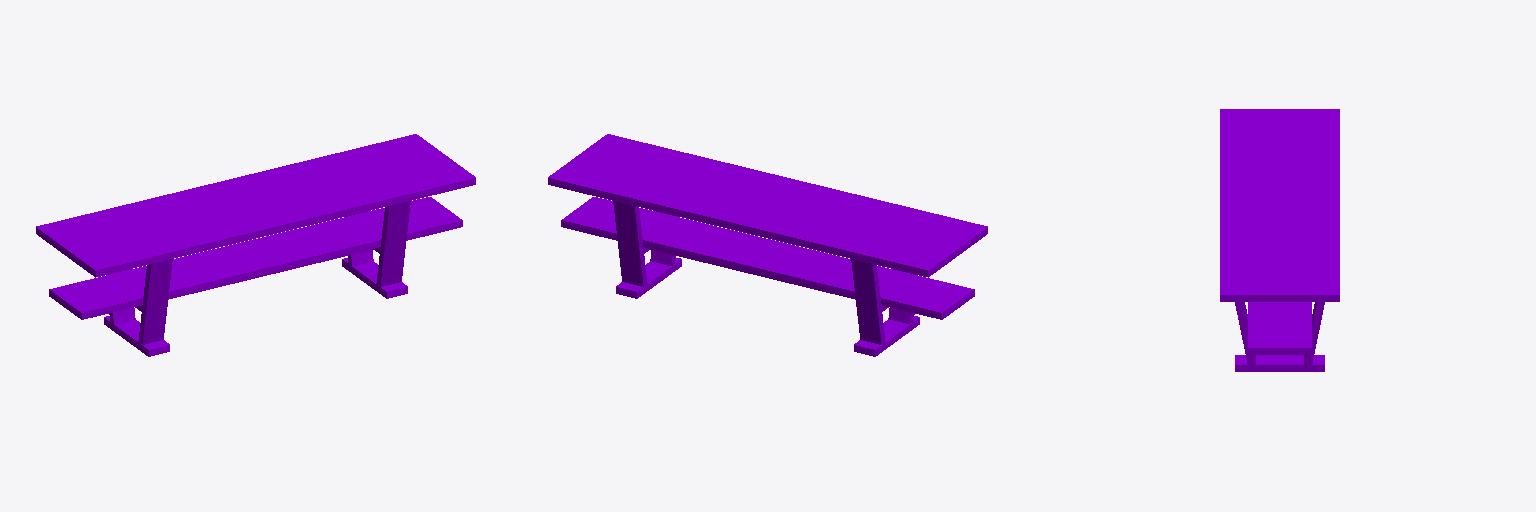
Rendered from smalltable.obj.
3 renders of one model, left to right at view 1: azimuth 30°, elevation 25°; view 2: azimuth 150°, elevation 25°; view 3: azimuth 270°, elevation 25°, orthographic.
Visible parts, largest first — view 1: wood; view 2: wood; view 3: wood.
Part boxes in pixels (x1,y1,x2,y2): wood: (36,134,475,356); wood: (548,134,987,356); wood: (1220,109,1339,371).
Bounding box in the file's own units: 2.2 × 0.5949 × 0.6.